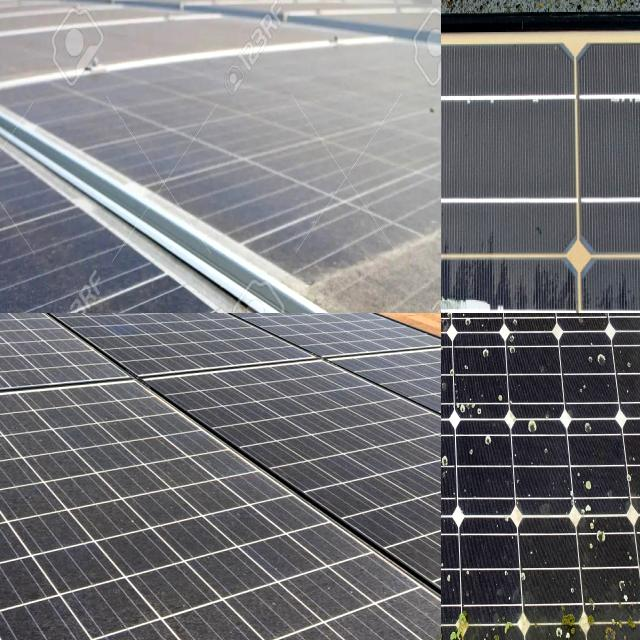bird: (518, 591, 607, 640), (441, 413, 460, 486), (518, 407, 542, 455), (441, 603, 456, 640), (441, 531, 454, 573), (557, 313, 579, 337), (441, 536, 454, 575), (441, 452, 454, 491), (441, 448, 460, 471), (441, 435, 449, 483), (441, 348, 450, 375)
dust: (202, 64, 354, 231), (0, 481, 199, 559), (235, 393, 402, 483), (245, 549, 398, 640), (0, 213, 105, 313), (0, 6, 119, 92), (0, 420, 174, 470), (118, 23, 323, 64), (390, 152, 441, 313), (148, 273, 337, 313), (54, 592, 199, 640), (2, 326, 92, 396), (0, 313, 53, 400), (386, 511, 441, 553)
